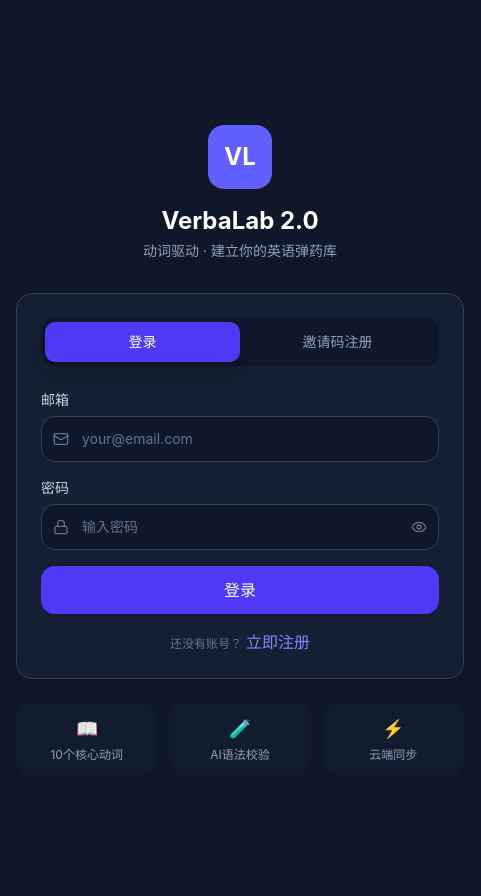
Test case: AuthPage › blocks signup without invite code
Click the button "邀请码注册" at (338,342), box 240,322 -> 435,362
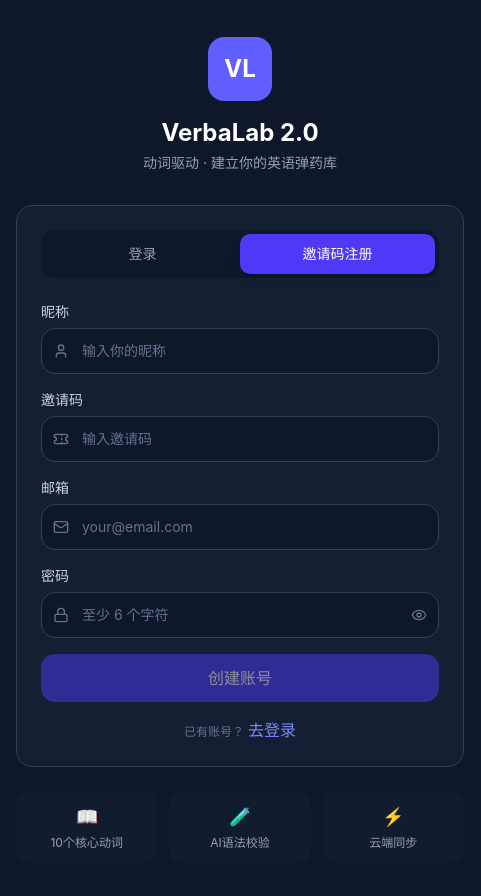
Type "Yuchao" into the field with placeholder "输入你的昵称" at (240,351), box 41,328 -> 439,374
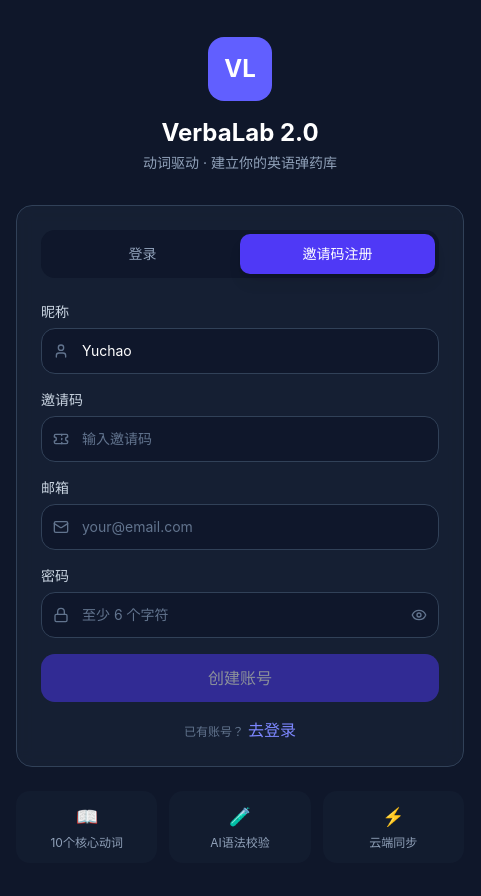
Type "user@example.com" into the field with placeholder "your@email.com" at (240,527), box 41,504 -> 439,550
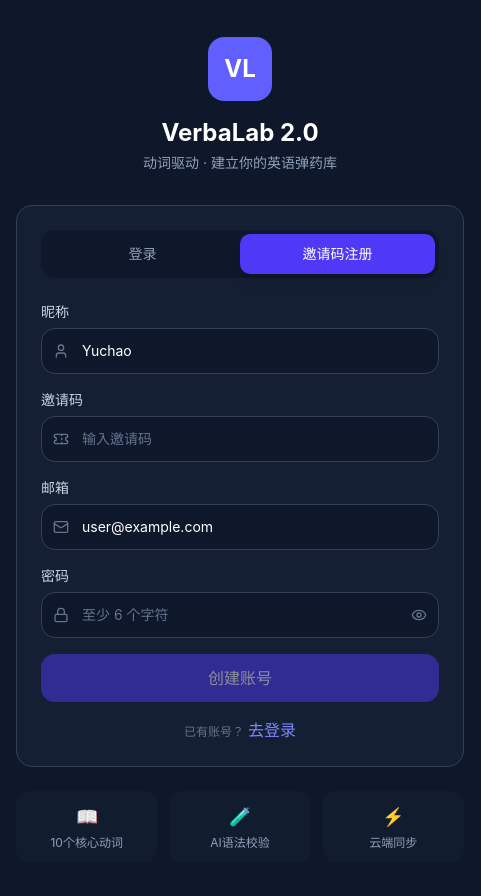
Type "123456" into the password field with placeholder "至少 6 个字符" at (240,615), box 41,592 -> 439,638
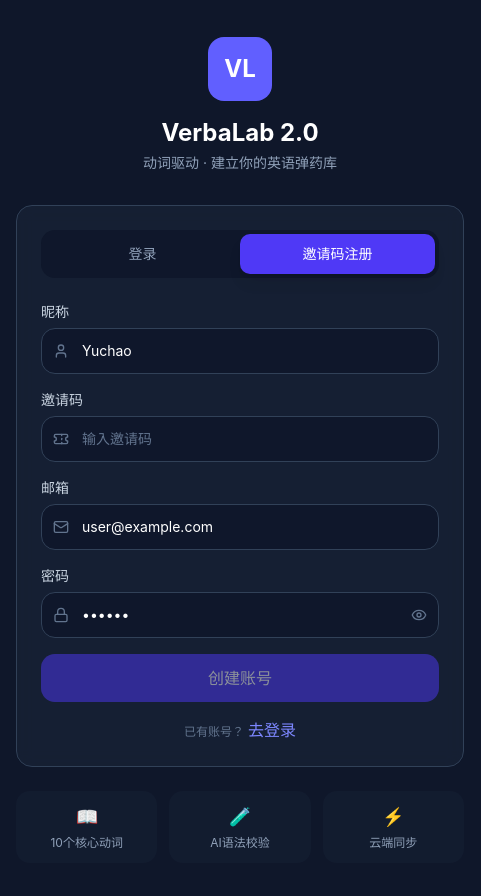
Submit the form, box 41,302 -> 439,702
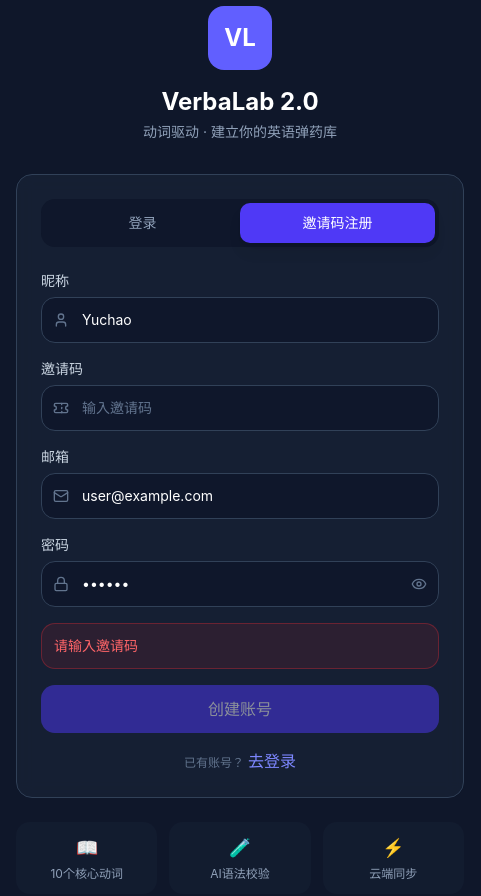
Expected: the text "请输入邀请码" is shown, 54,637 -> 138,654
